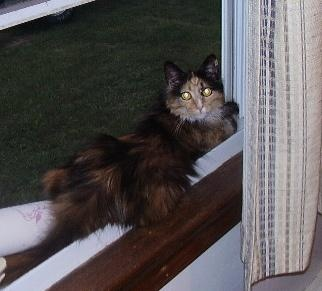cat: (36, 55, 239, 262)
